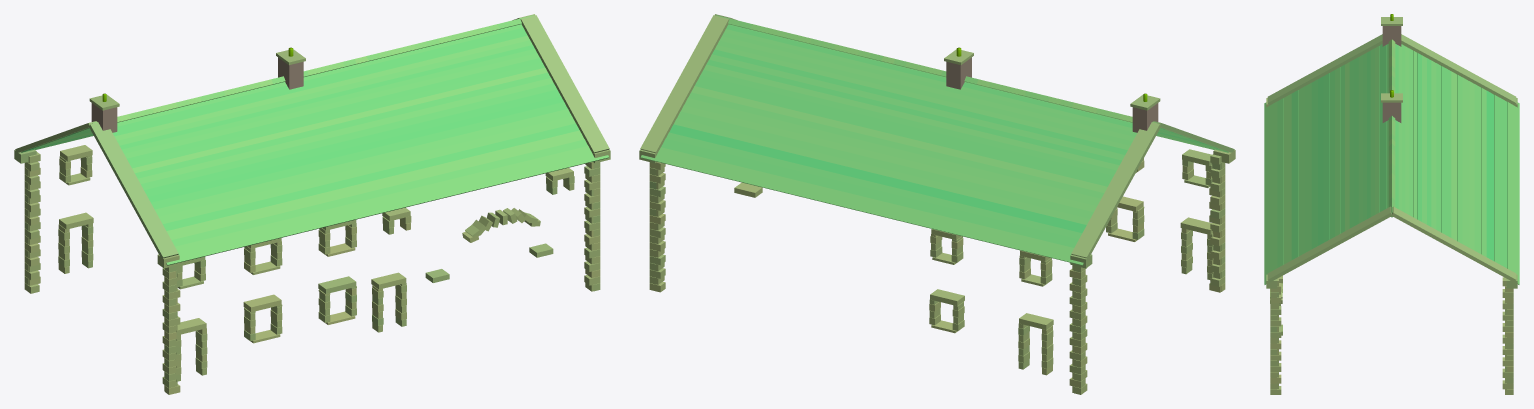
The model's file is SM_Bld_047_Stone.glb.
The picture shows the model from 3 angles, left to right: view 1: azimuth 30°, elevation 25°; view 2: azimuth 150°, elevation 25°; view 3: azimuth 270°, elevation 25°; orthographic projection. The views are drawn at different scales.
Visible parts, largest first — view 1: SM_Bld_047_Stone; view 2: SM_Bld_047_Stone; view 3: SM_Bld_047_Stone.
Boxes of the visible parts, x1,y1,x2,y2 form: SM_Bld_047_Stone: (14,14,610,394); SM_Bld_047_Stone: (639,14,1235,394); SM_Bld_047_Stone: (1264,14,1519,394).
Bounding box in the file's own units: 20.62 × 10.86 × 12.15.
